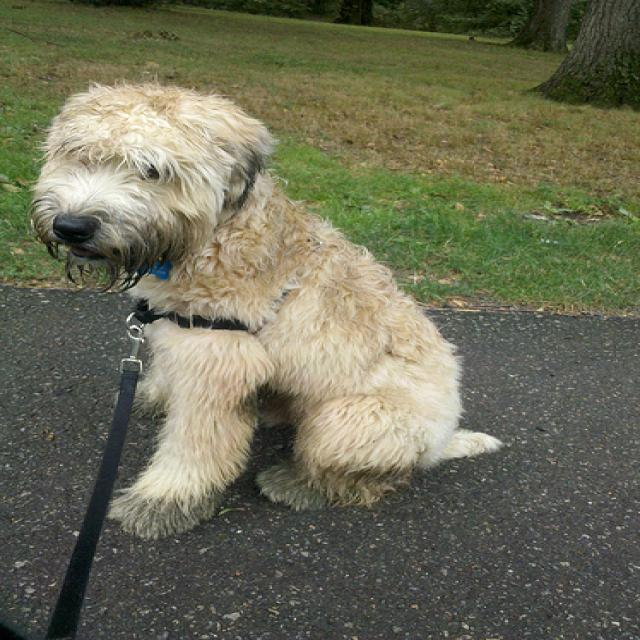dog-wheaten_terrier: (22, 69, 512, 545)
